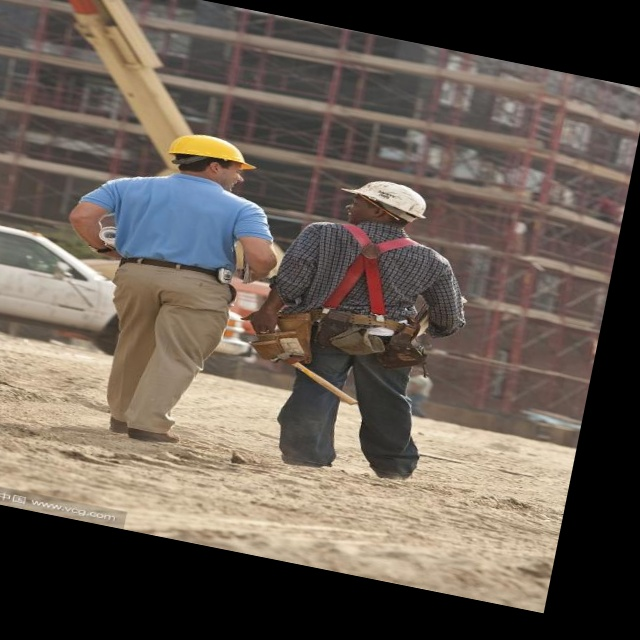Con_Casco: (165, 128, 259, 191), (341, 173, 432, 232)
Sin_Chaleco: (90, 160, 276, 287)
